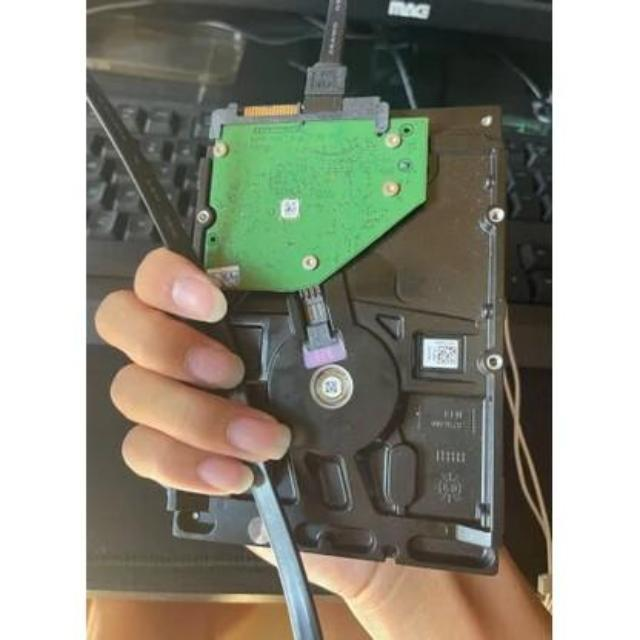DISK: (168, 85, 510, 588)
